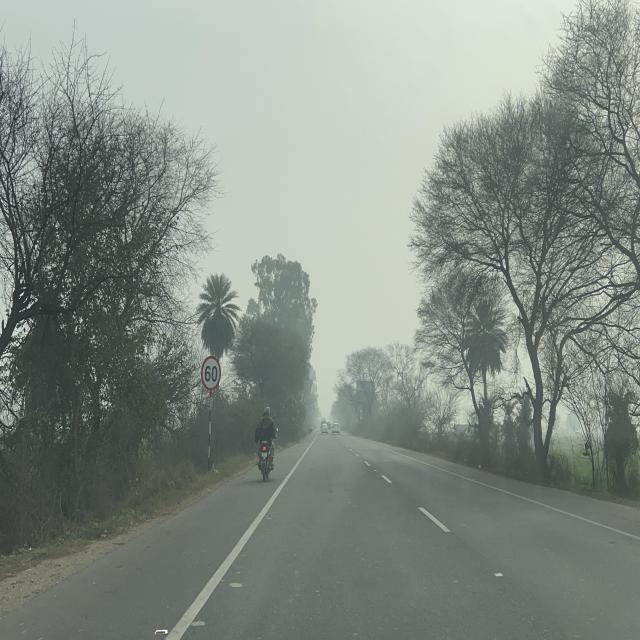SPEED_LIMIT_60: (201, 354, 221, 389)
